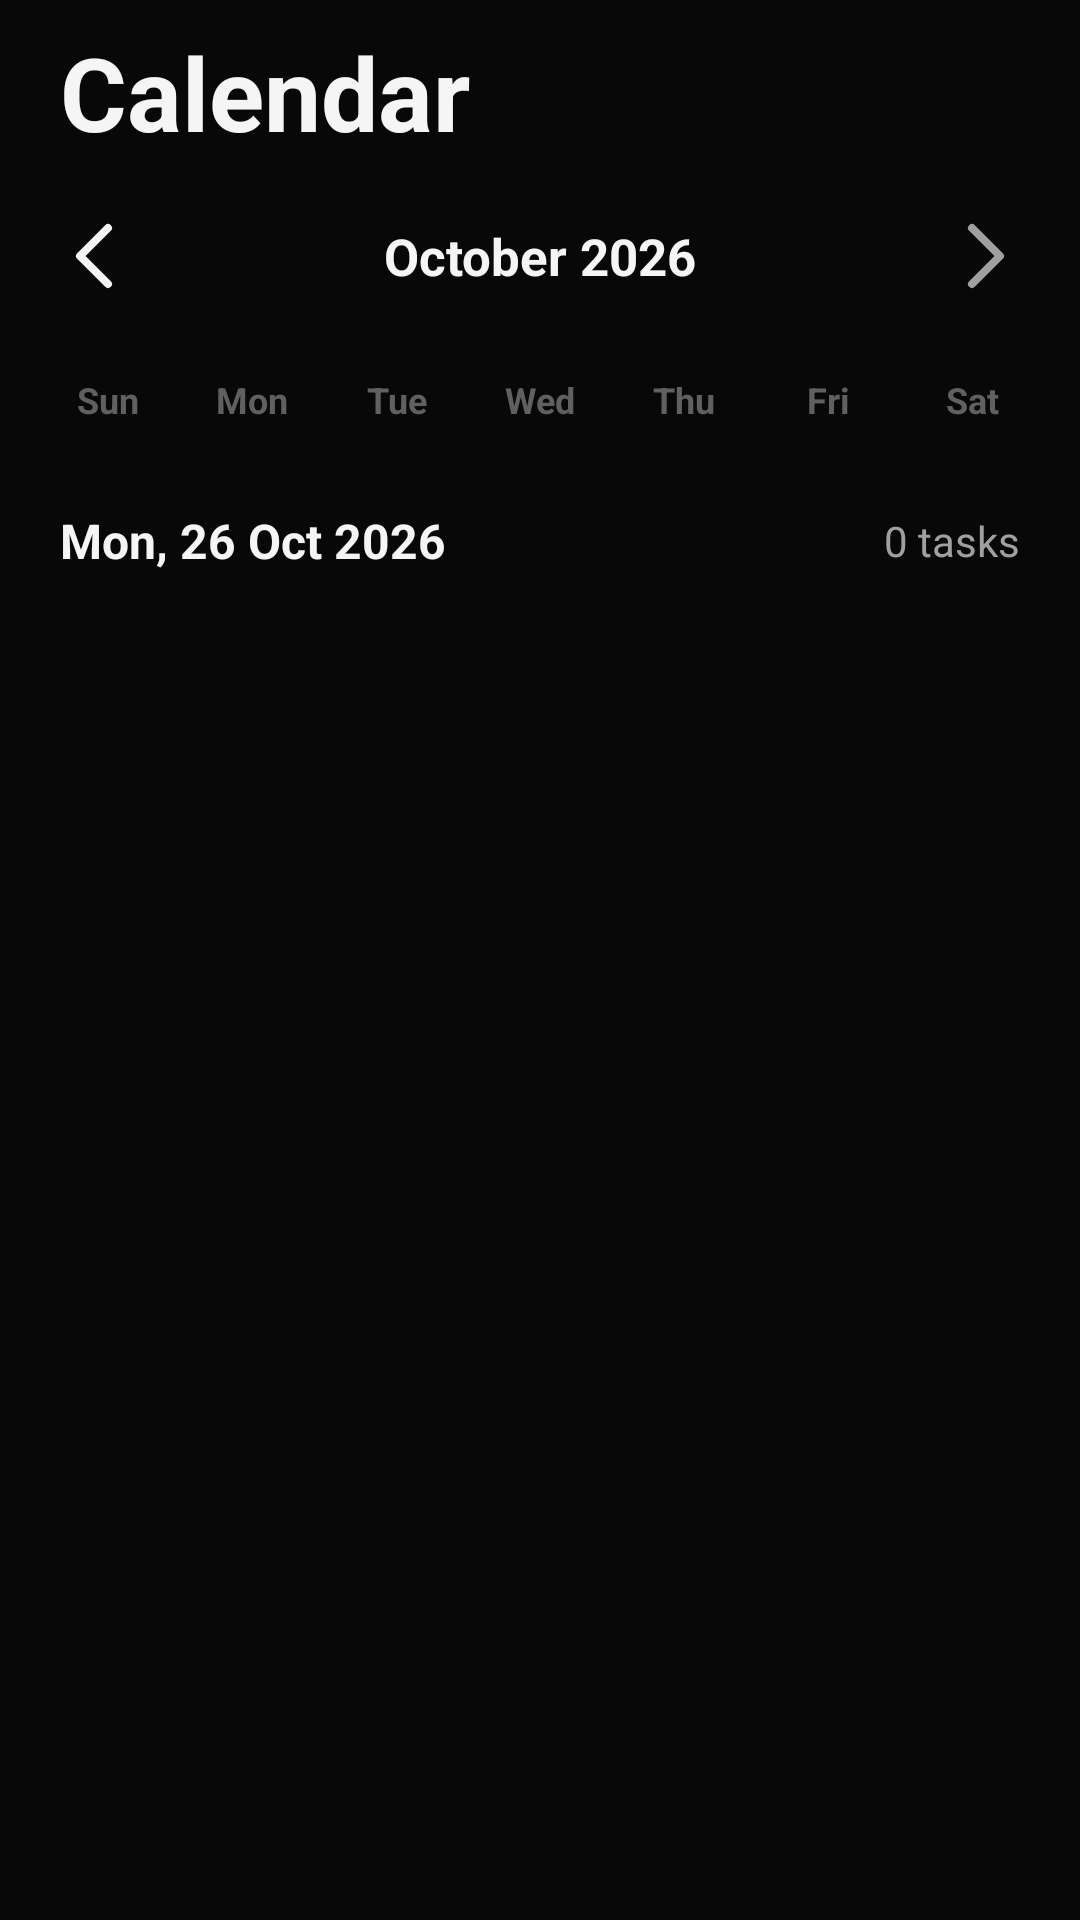

Point at icon controls on the screen. Image size 1080×1920, points as (x,y).
Next Month: (986,255)
Previous Month: (93,255)
